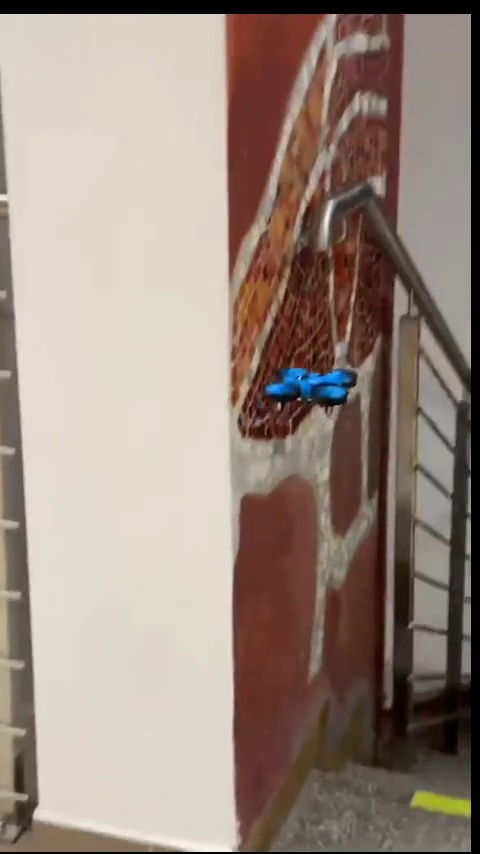drone: (270, 364, 361, 415)
